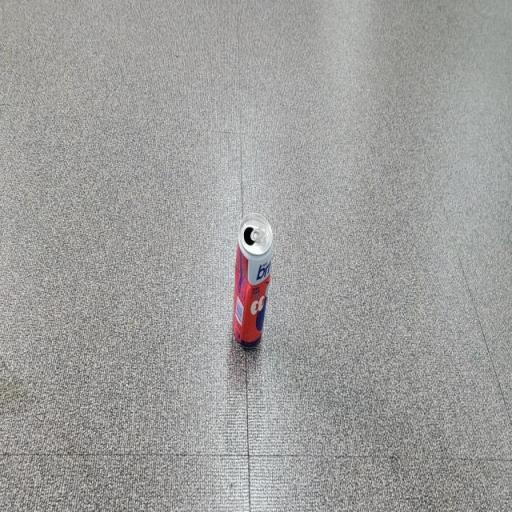metal: (207, 198, 306, 385)
